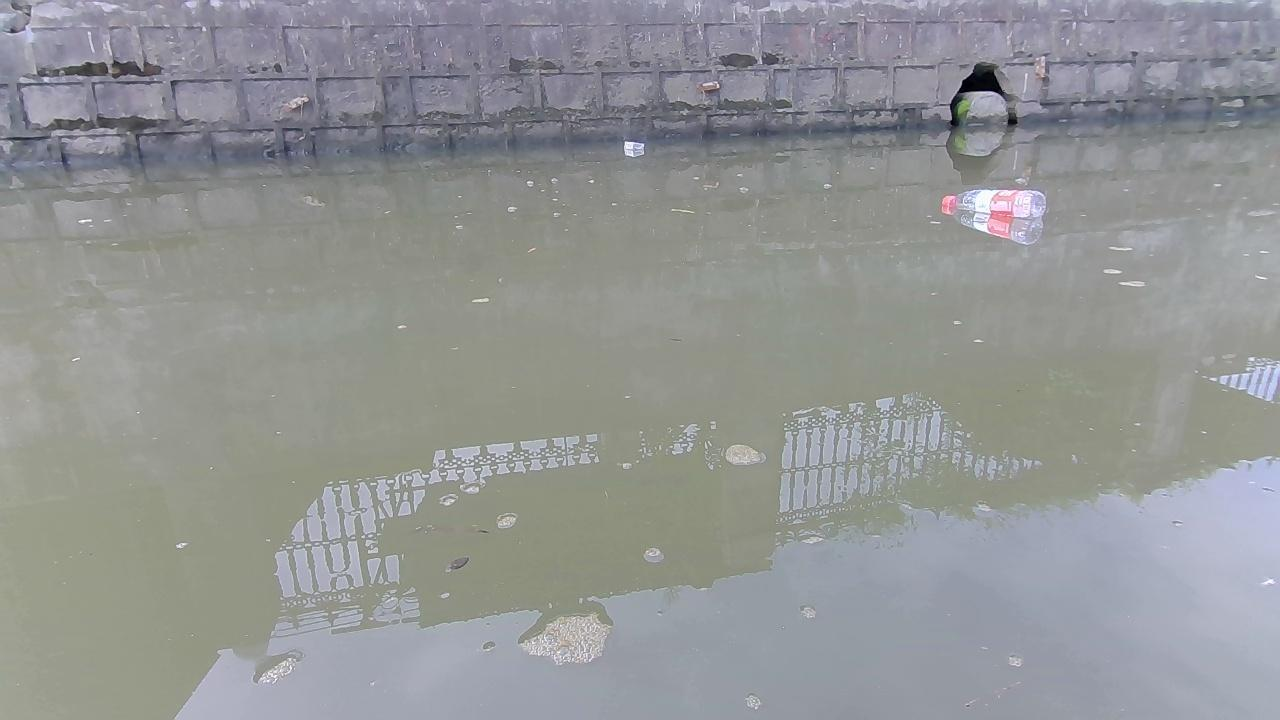bottle: (940, 185, 1044, 227), (623, 141, 646, 157)
